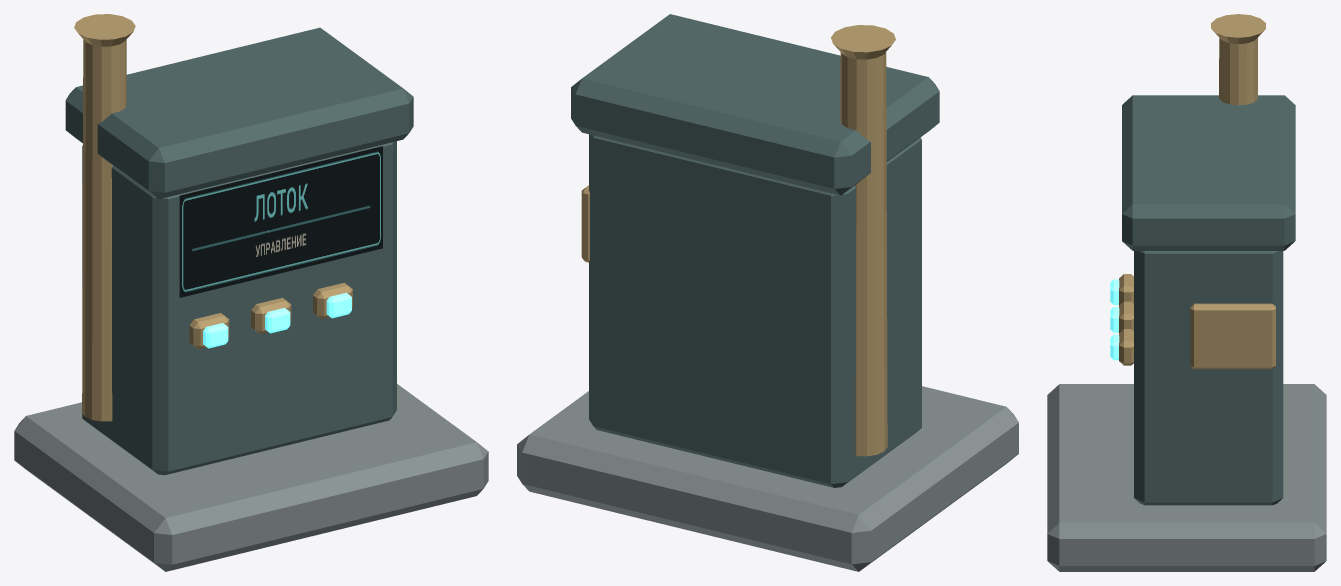
Rendered from west-gauge.glb.
3 views of the same model, side by side, from view 1: azimuth 30°, elevation 25°; view 2: azimuth 150°, elevation 25°; view 3: azimuth 270°, elevation 25° (orthographic). The views are drawn at different scales.
Visible parts, largest first — view 1: west-gauge; view 2: west-gauge; view 3: west-gauge.
Boxes of the visible parts, bbox=[...] form: west-gauge: bbox=[14, 14, 488, 571]; west-gauge: bbox=[517, 14, 1018, 571]; west-gauge: bbox=[1047, 14, 1326, 571].
Size of the model in its own units: 1.3 by 1.72 by 1.03.
5 materials, 1 textured.
